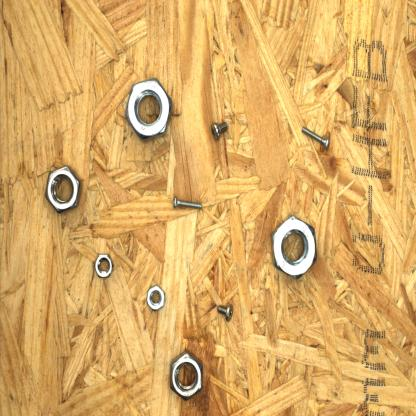screw: (170, 189, 206, 219), (299, 124, 332, 154), (215, 295, 235, 326), (210, 116, 230, 140)
